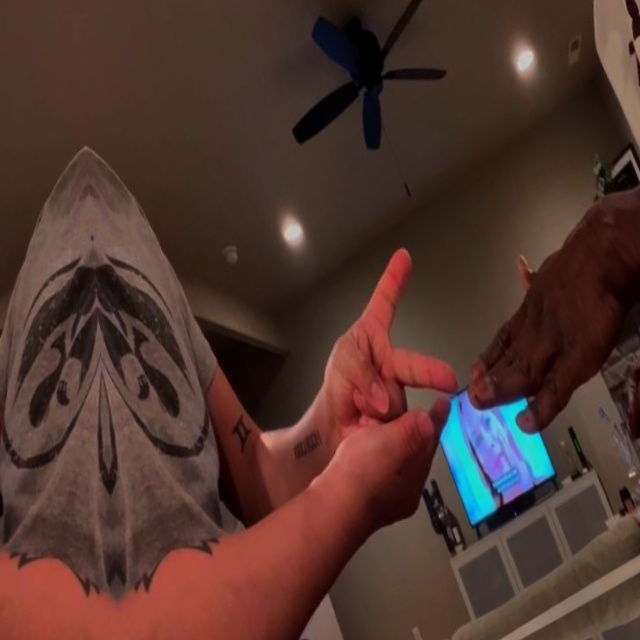Paper: (424, 187, 640, 472)
Scissors: (288, 238, 469, 468)
